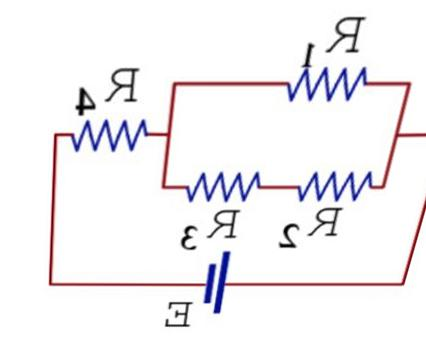resistor: (64, 107, 153, 163), (279, 60, 379, 109), (174, 161, 275, 208), (284, 165, 384, 202)
